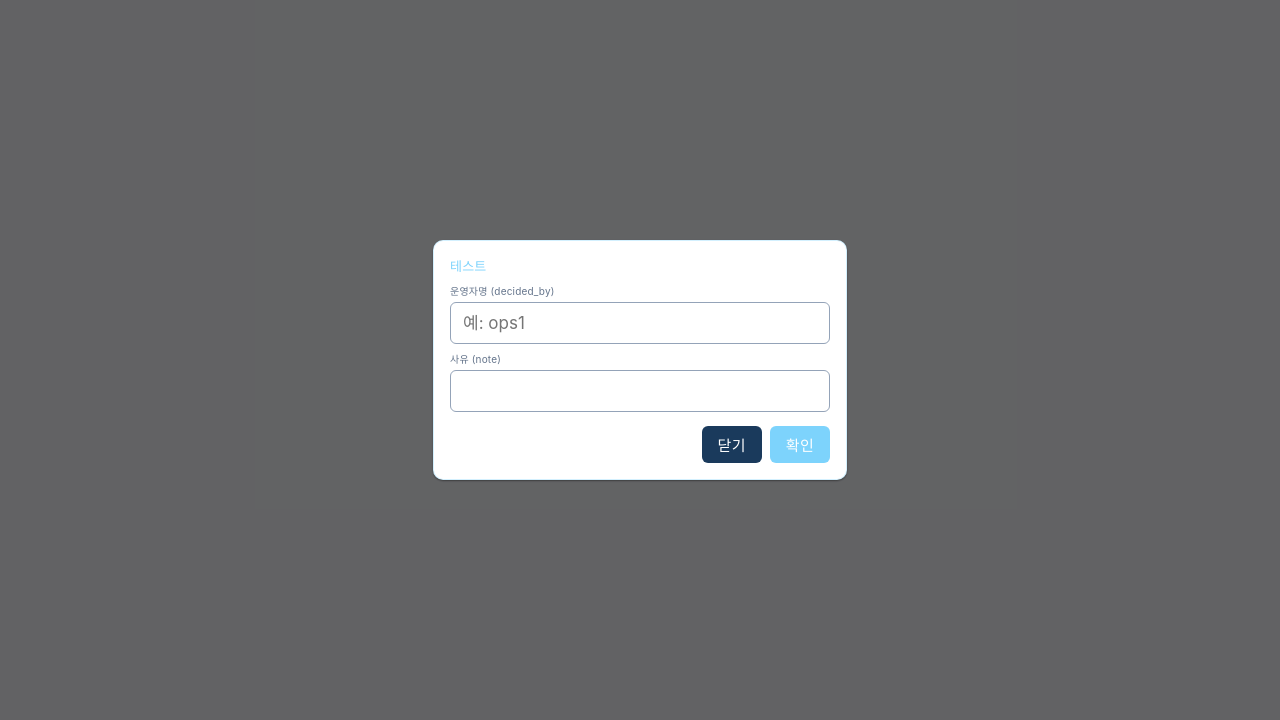
Test case: <DecisionDialog> › clears the error on next confirm attempt (retry path)
This screenshot has width=1280, height=720.
Click the button "확인": coordinates (800, 444) x1=770 y1=426 x2=830 y2=463
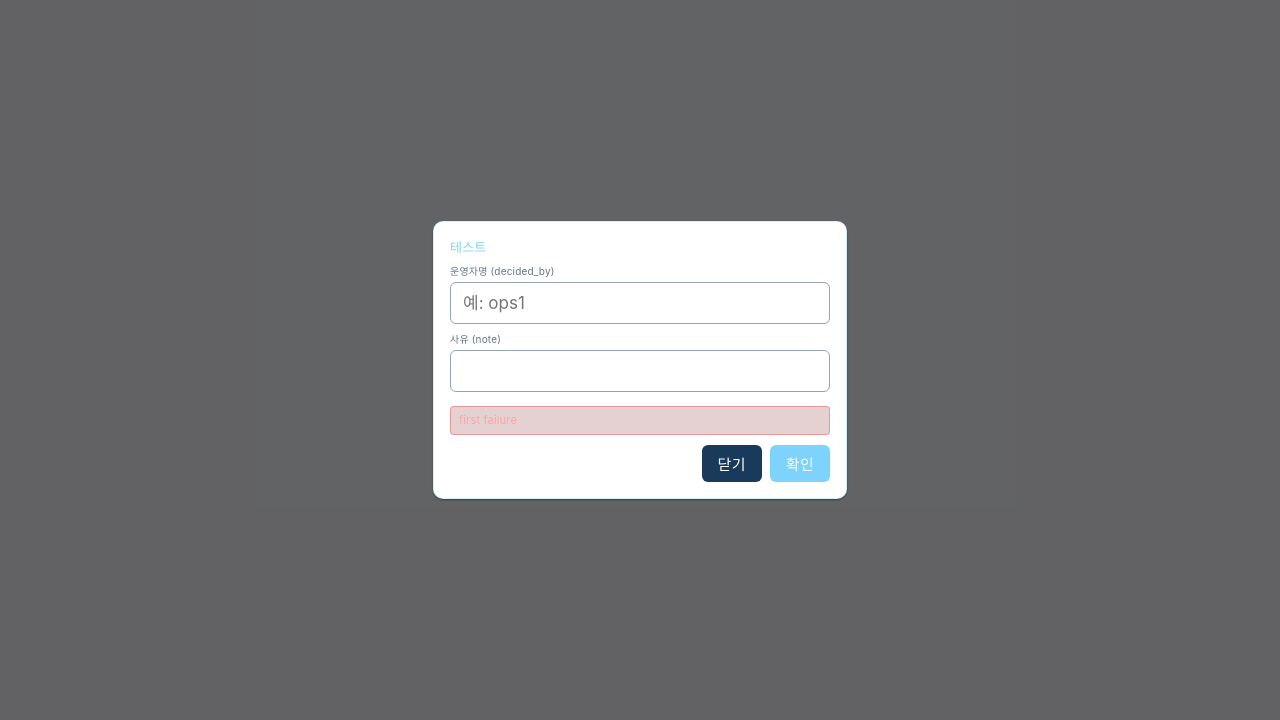
Now the text "first failure" is shown, box x1=450 y1=406 x2=830 y2=435
Note: Operator retries — error should clear at the start of the next submit
Click the button "확인": coordinates (800, 464) x1=770 y1=445 x2=830 y2=482
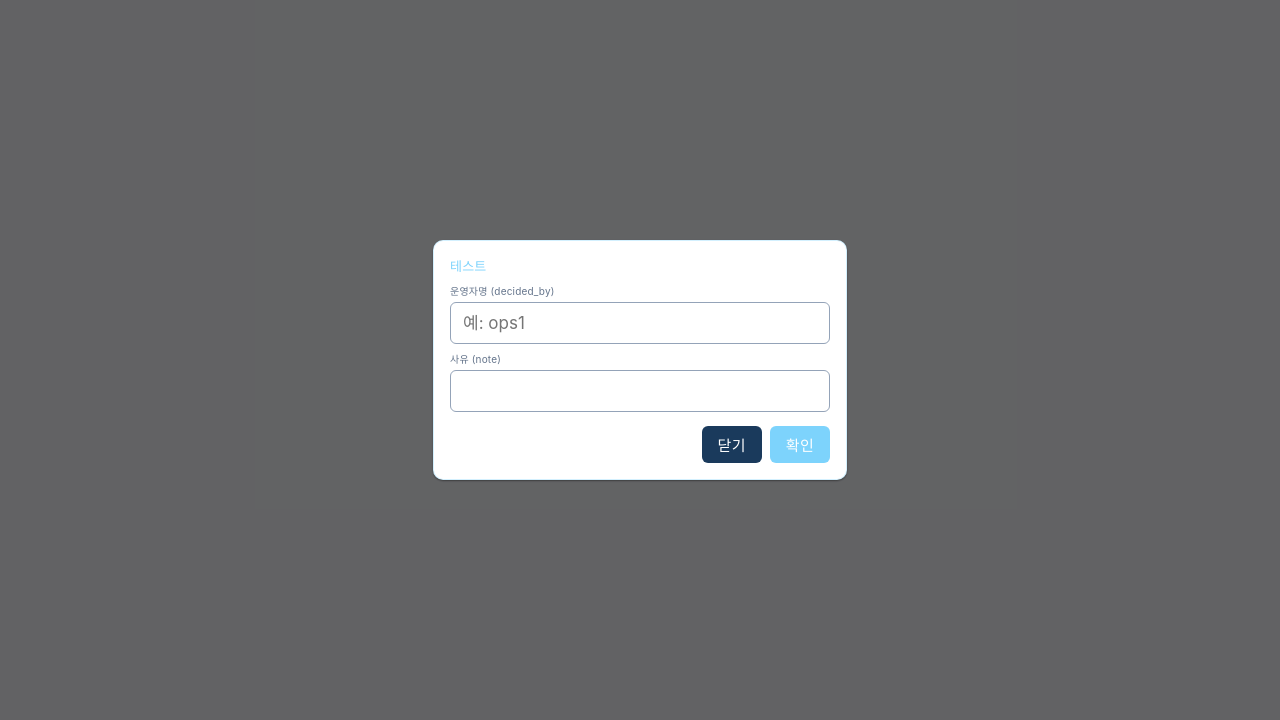
Now the text with test id "decision-dialog-error" is gone
